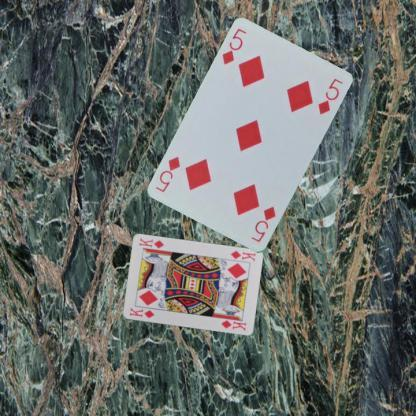5d: (248, 204, 277, 244), (220, 26, 247, 66)
Kd: (228, 248, 257, 263), (127, 306, 156, 320)
